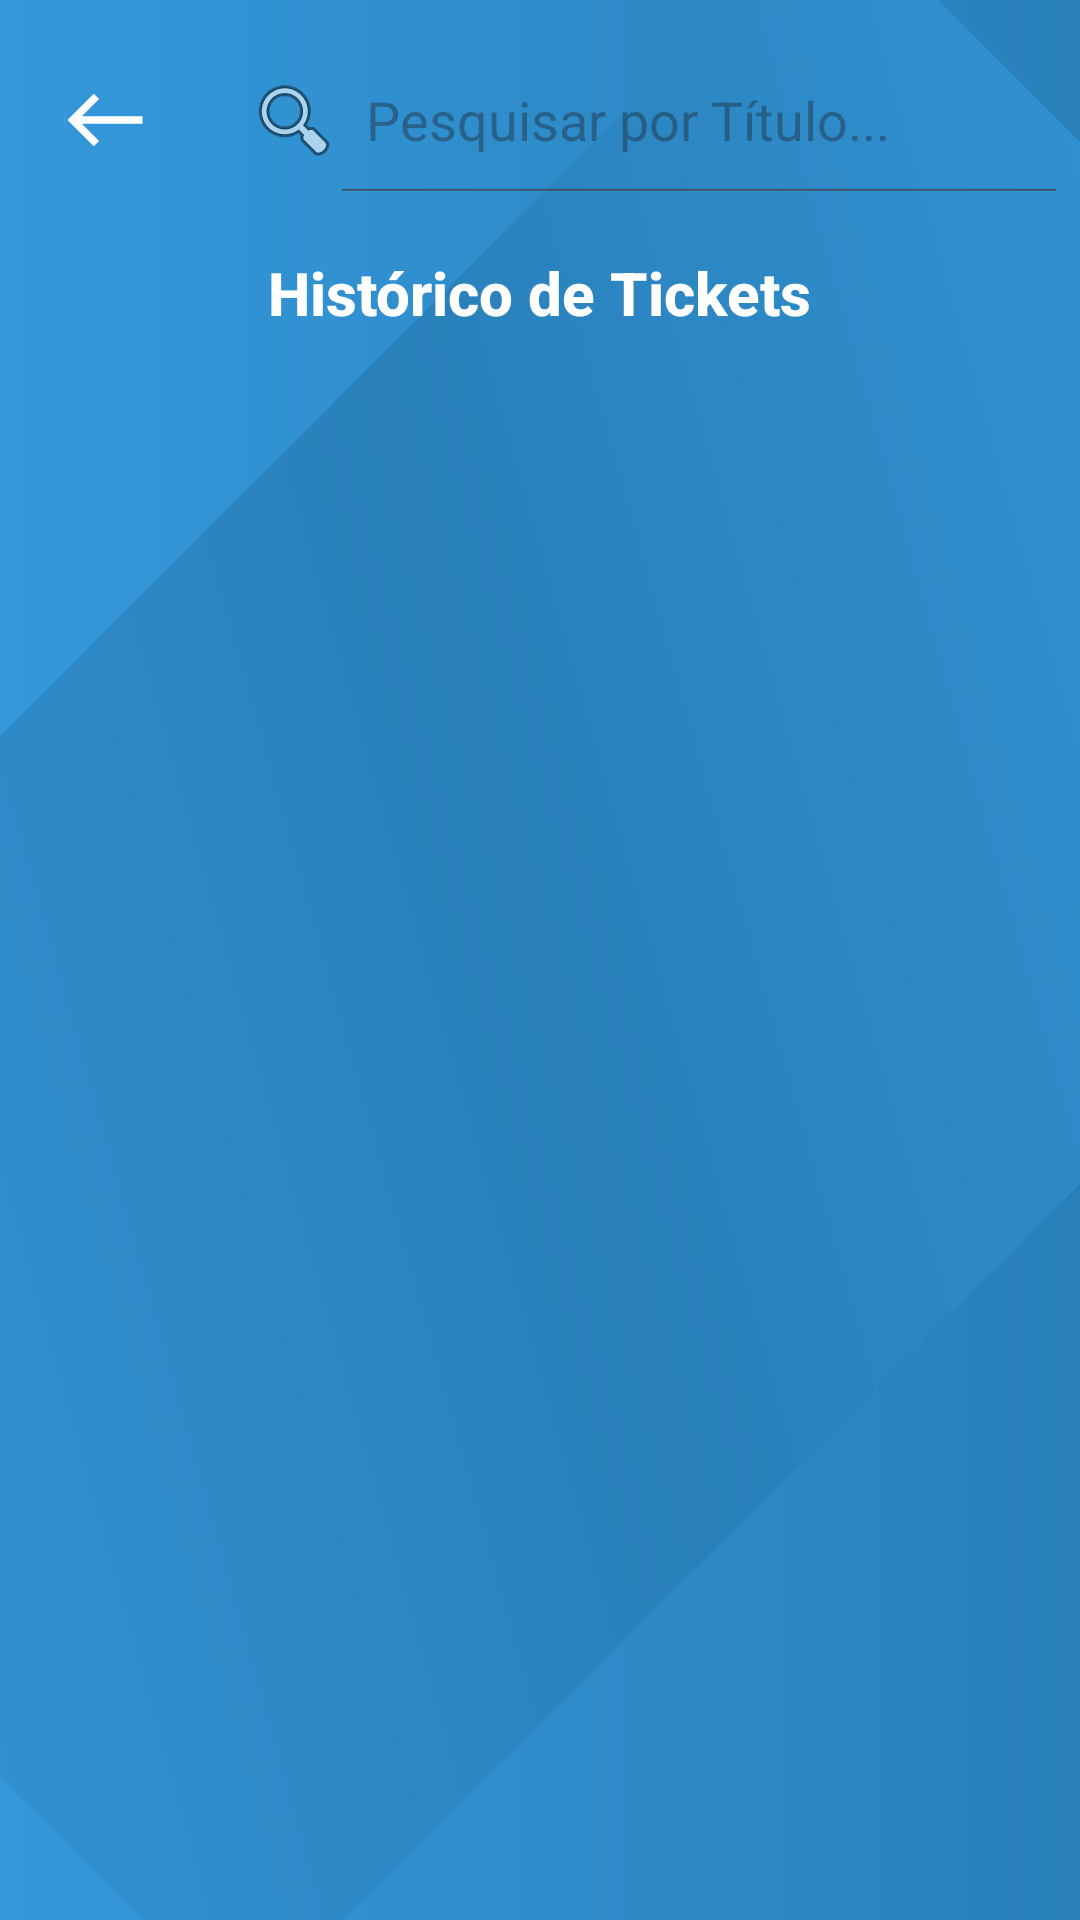

Icon click points for this 1080w x 1920h phone screenshot, format (x=x, y=y):
voltar: (x=105, y=120)
